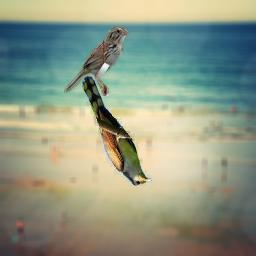Cuckoo: (82, 76, 152, 186)
Sparrow: (64, 26, 130, 96)
